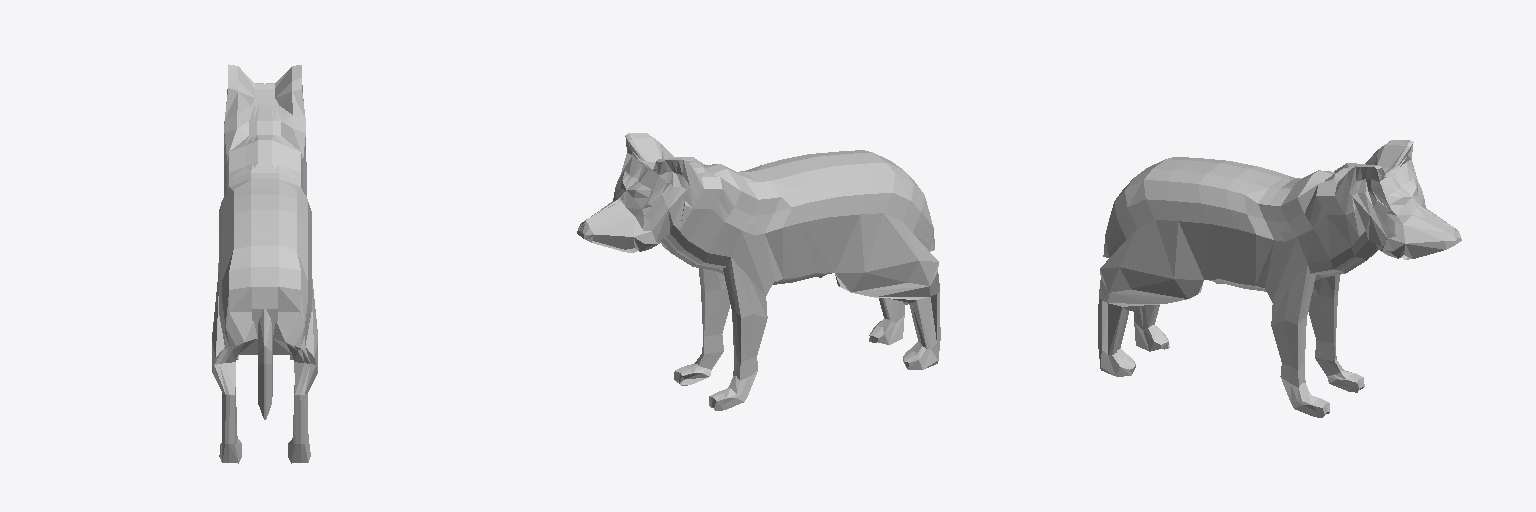
File: Wolf.obj
3 views of the same model, side by side, from view 1: azimuth 30°, elevation 25°; view 2: azimuth 150°, elevation 25°; view 3: azimuth 270°, elevation 25° (orthographic).
Visible parts, largest first — view 1: Plane.001_Plane.005; view 2: Plane.001_Plane.005; view 3: Plane.001_Plane.005.
Part boxes in pixels (x1,y1,x2,y2): Plane.001_Plane.005: (212,64,317,463); Plane.001_Plane.005: (577,133,940,410); Plane.001_Plane.005: (1098,140,1461,417).
Size of the model in its own units: 4.51 by 5.48 by 6.7.